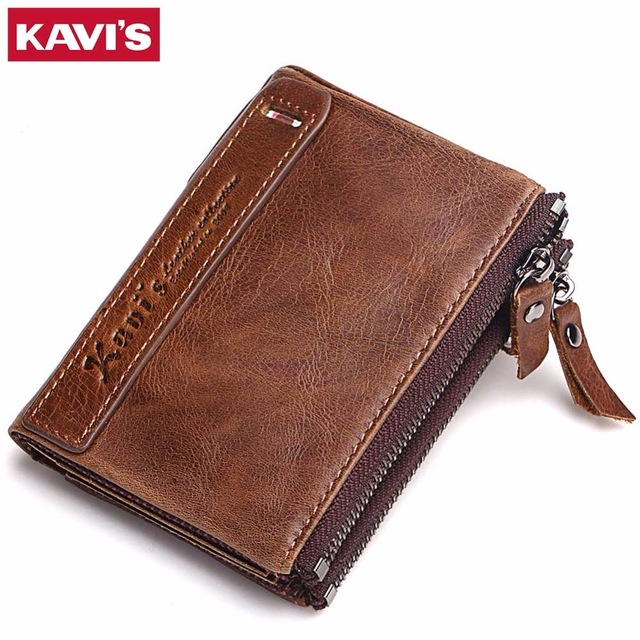monedero: (7, 63, 576, 613)
